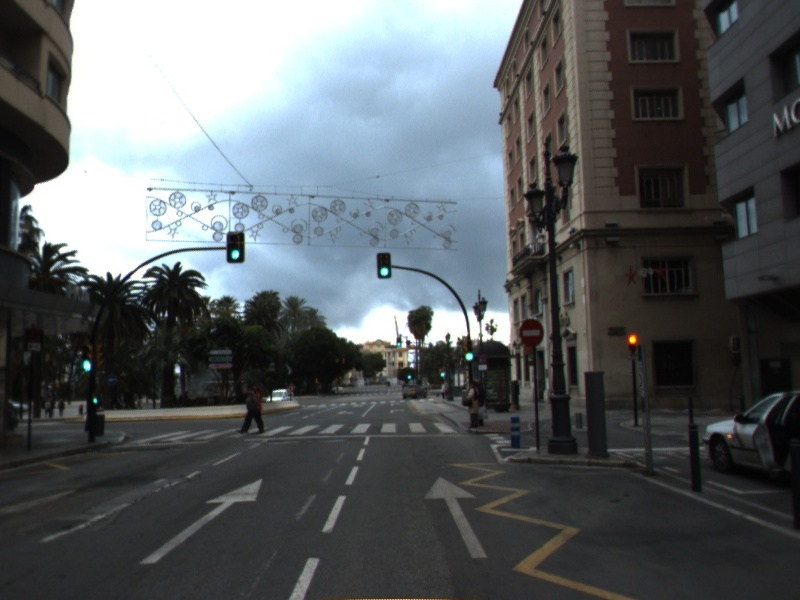STRAIGHT: (137, 476, 265, 567), (421, 474, 491, 561)
